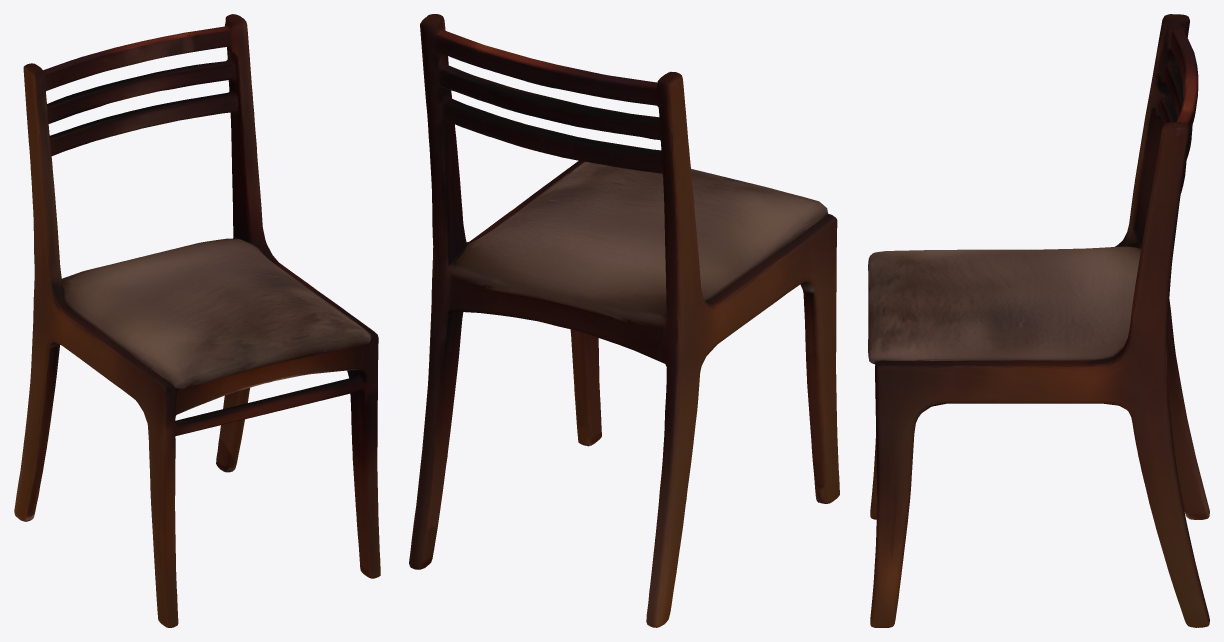
File: chair.fbx
3 renders of one model, left to right at view 1: azimuth 30°, elevation 25°; view 2: azimuth 150°, elevation 25°; view 3: azimuth 270°, elevation 25°, orthographic. The views are drawn at different scales.
Parts seen in each view (by area): view 1: model_LOD4; view 2: model_LOD4; view 3: model_LOD4.
Boxes of the visible parts, x1=… form: model_LOD4: x1=14, y1=14, x2=380, y2=627; model_LOD4: x1=409, y1=14, x2=839, y2=627; model_LOD4: x1=868, y1=14, x2=1209, y2=627.
Size of the model in its own units: 93.42 by 191 by 117.
